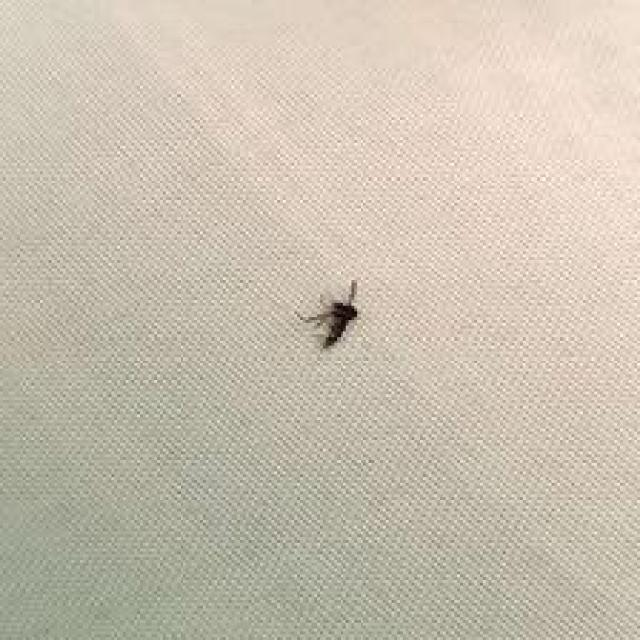Aedes albopictus: (294, 279, 360, 350)
